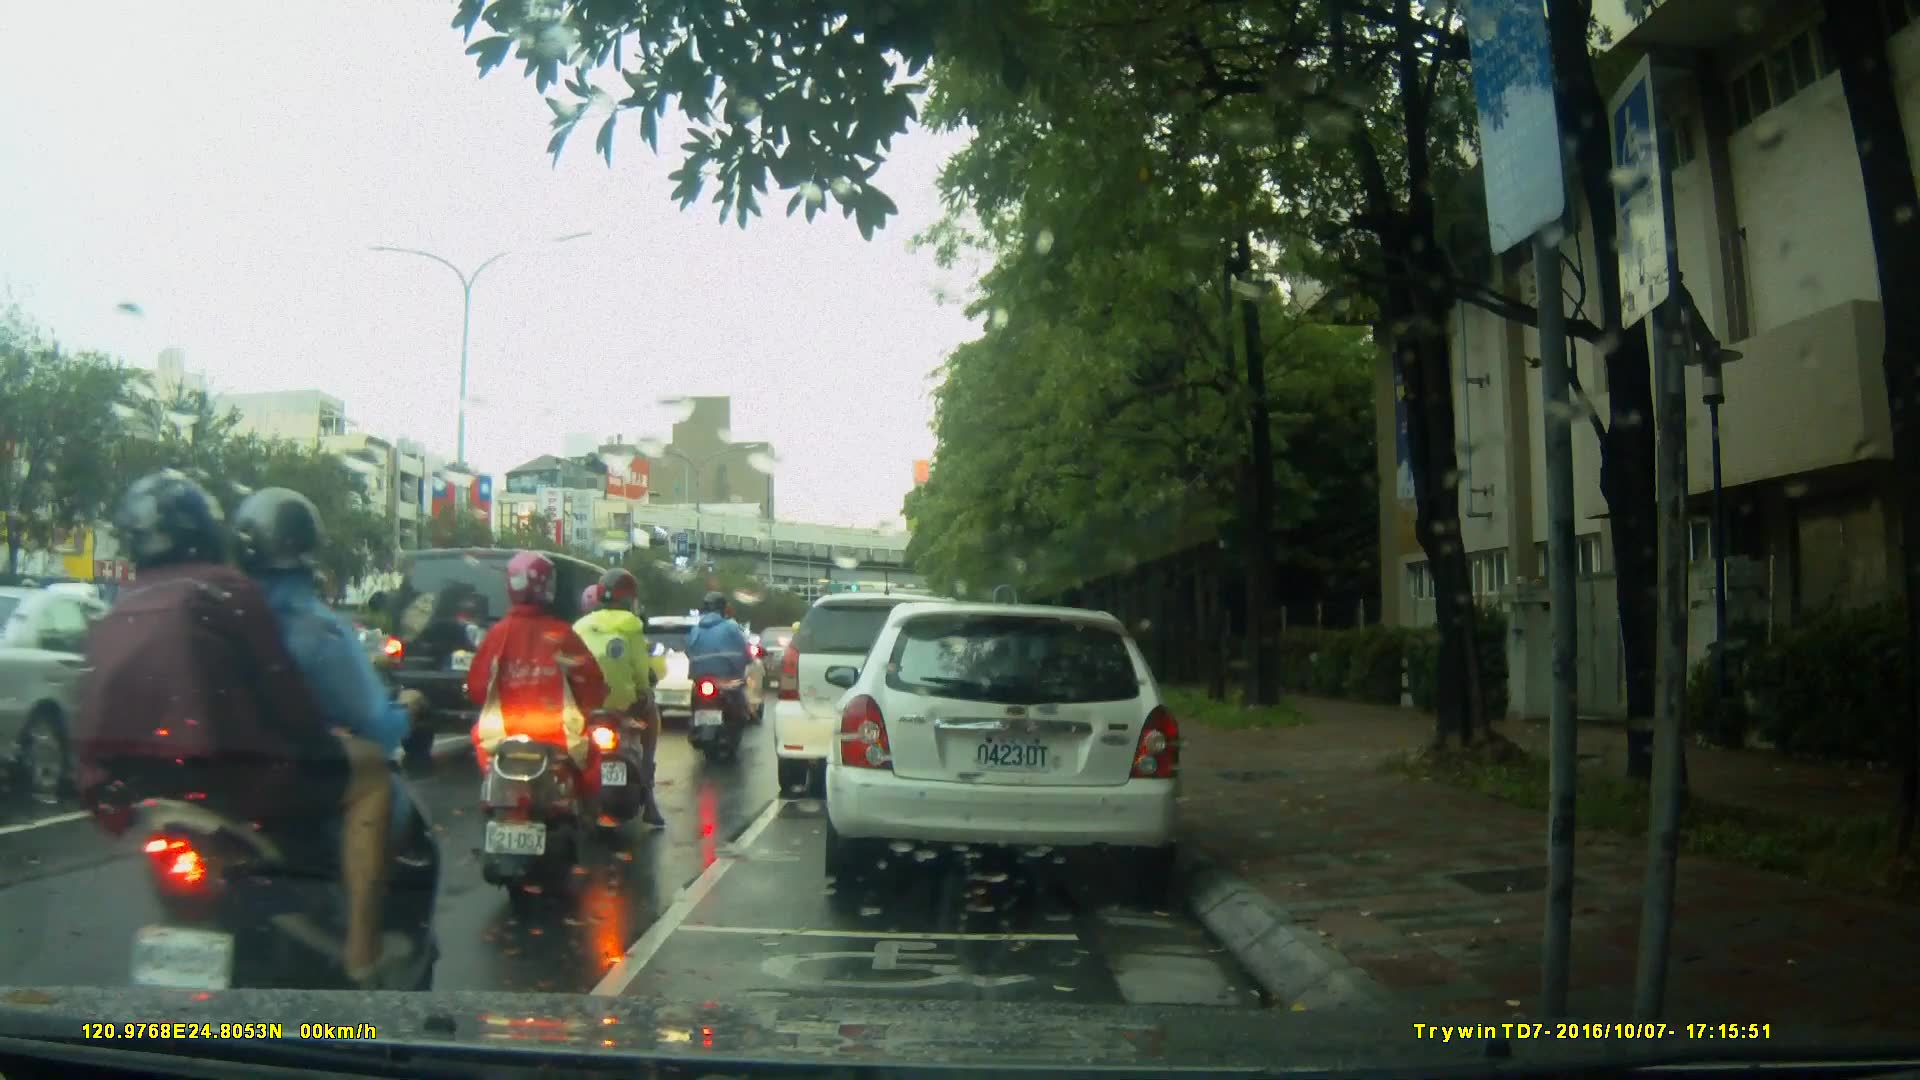rider: (66, 477, 425, 1027), (465, 548, 617, 917), (224, 565, 385, 809), (568, 568, 681, 837), (591, 595, 669, 808), (680, 592, 756, 758)
vehicle: (822, 604, 1188, 883), (385, 545, 654, 765), (774, 595, 995, 802)
